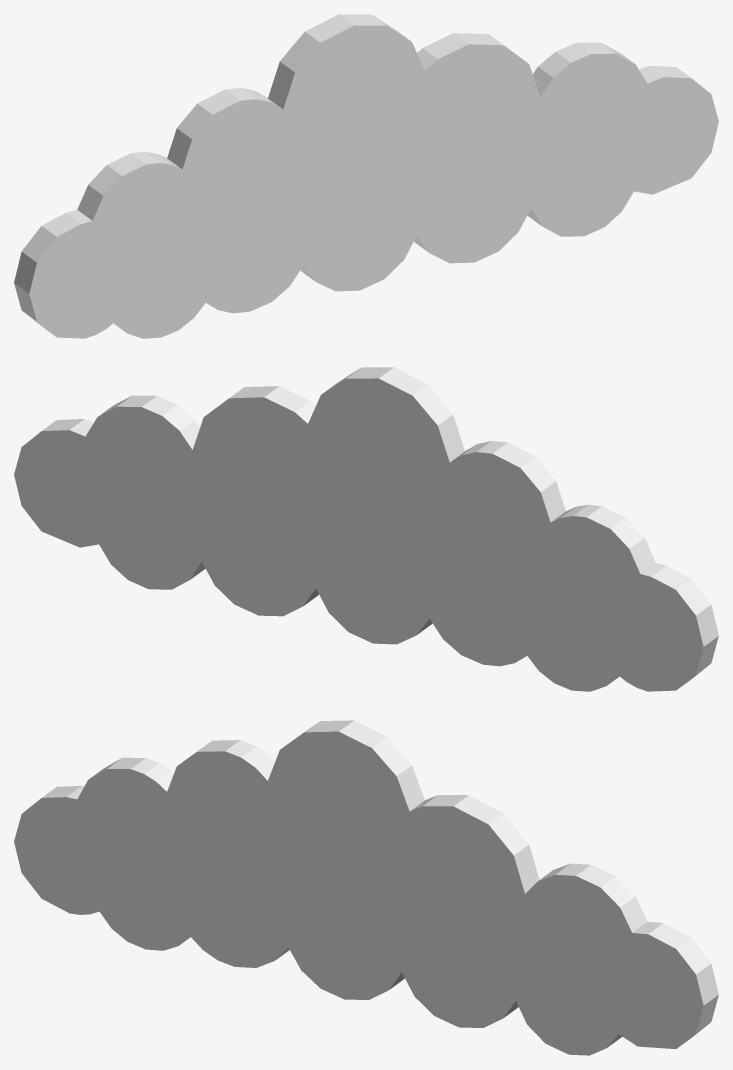
File: cartoon_cloud_3.fbx
The picture shows the model from 3 angles, top to bottom: view 1: azimuth 30°, elevation 25°; view 2: azimuth 150°, elevation 25°; view 3: azimuth 330°, elevation 25°; orthographic projection.
Parts seen in each view (by area): view 1: cloud_73; view 2: cloud_73; view 3: cloud_73.
Boxes of the visible parts, x1=… form: cloud_73: x1=14, y1=14, x2=718, y2=338; cloud_73: x1=14, y1=367, x2=718, y2=691; cloud_73: x1=14, y1=720, x2=718, y2=1055.
Bounding box in the file's own units: 519 × 192 × 20.
